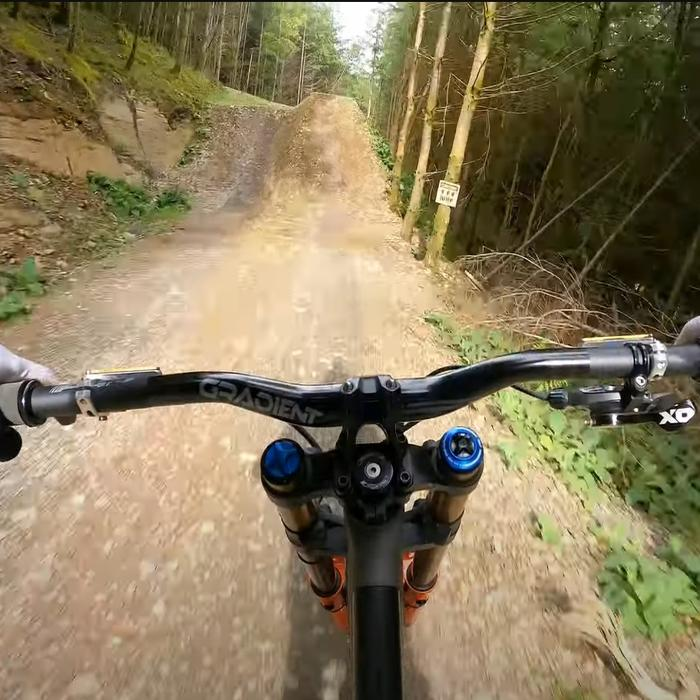turn: (281, 80, 377, 157)
